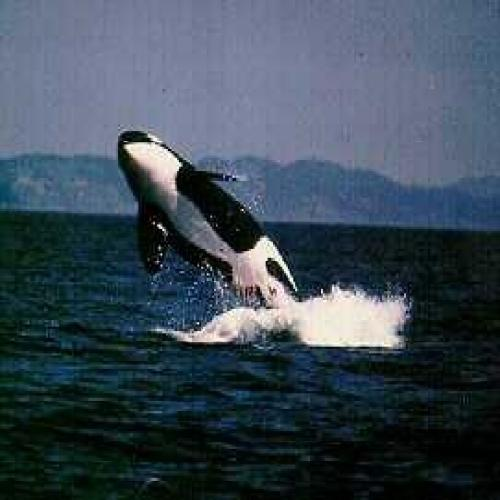killer_whale-endangered: (87, 92, 341, 346)
